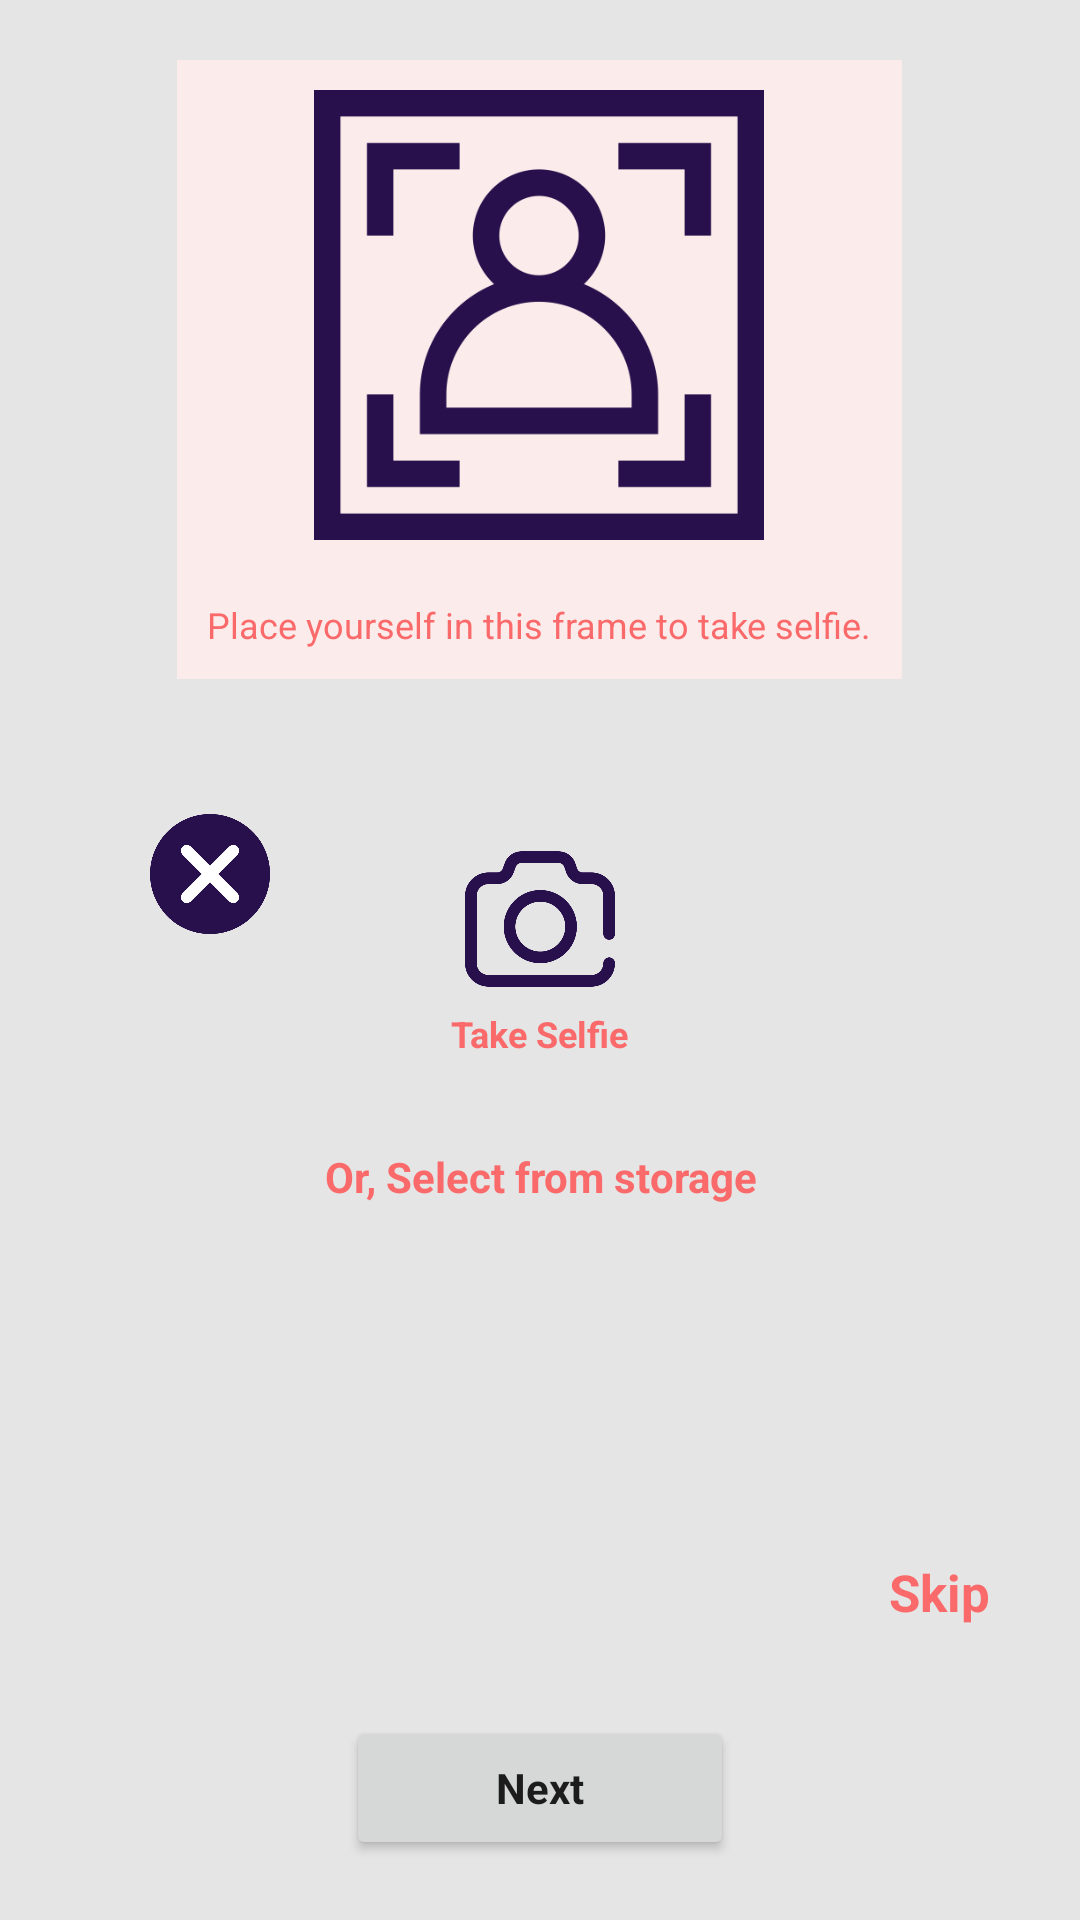

Point at icon controls on the screen. Image size 1080x1920, points as (x,y).
cancel: (210,874)
photo camera: (540,919)
